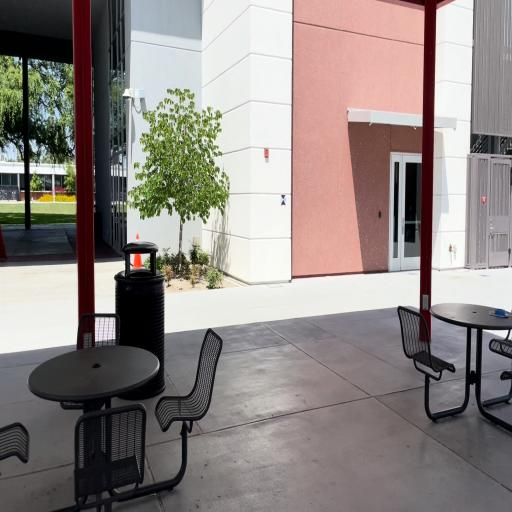target9: (280, 195, 286, 206)
